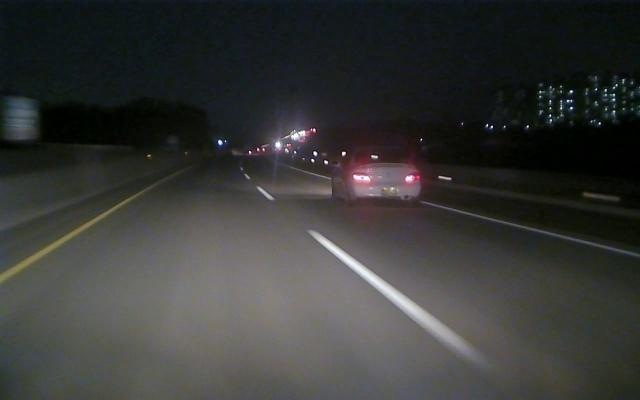lane: (246, 174, 492, 369), (424, 202, 636, 258), (2, 198, 131, 282)
